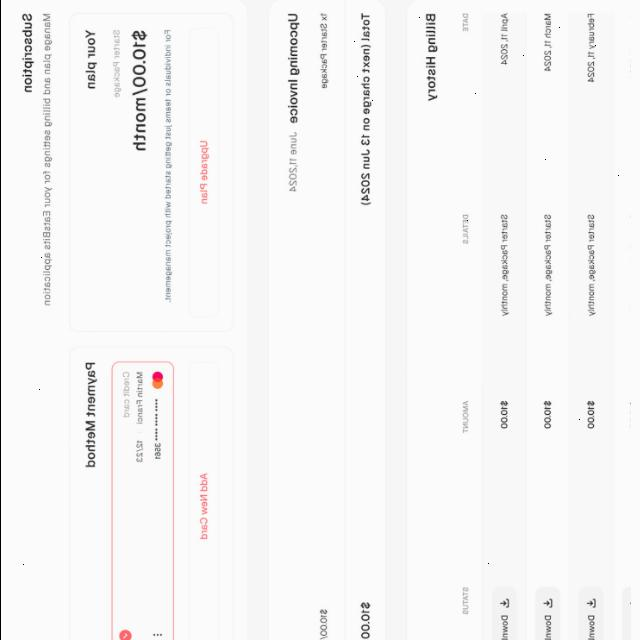QLabel: (40, 13, 50, 307), (358, 11, 370, 205), (128, 28, 146, 152), (162, 29, 170, 303), (284, 11, 300, 124), (423, 11, 437, 101), (84, 362, 95, 468), (20, 13, 32, 93), (82, 28, 96, 90), (318, 11, 328, 89), (196, 140, 208, 204), (110, 28, 120, 98), (197, 472, 207, 540), (286, 131, 296, 193), (152, 398, 160, 460), (134, 372, 142, 424), (359, 600, 369, 640), (316, 608, 328, 640), (122, 371, 128, 419), (133, 440, 143, 462)
VBtn: (186, 28, 218, 318), (186, 360, 217, 640)
VCard: (11, 0, 250, 640), (403, 0, 629, 640), (264, 0, 386, 640), (66, 12, 232, 334), (66, 346, 232, 640), (108, 360, 172, 640)
VDataTable: (448, 0, 630, 640)
VDivider: (342, 0, 344, 640)
VIcon: (150, 371, 162, 389), (116, 628, 130, 640), (150, 632, 162, 638)
